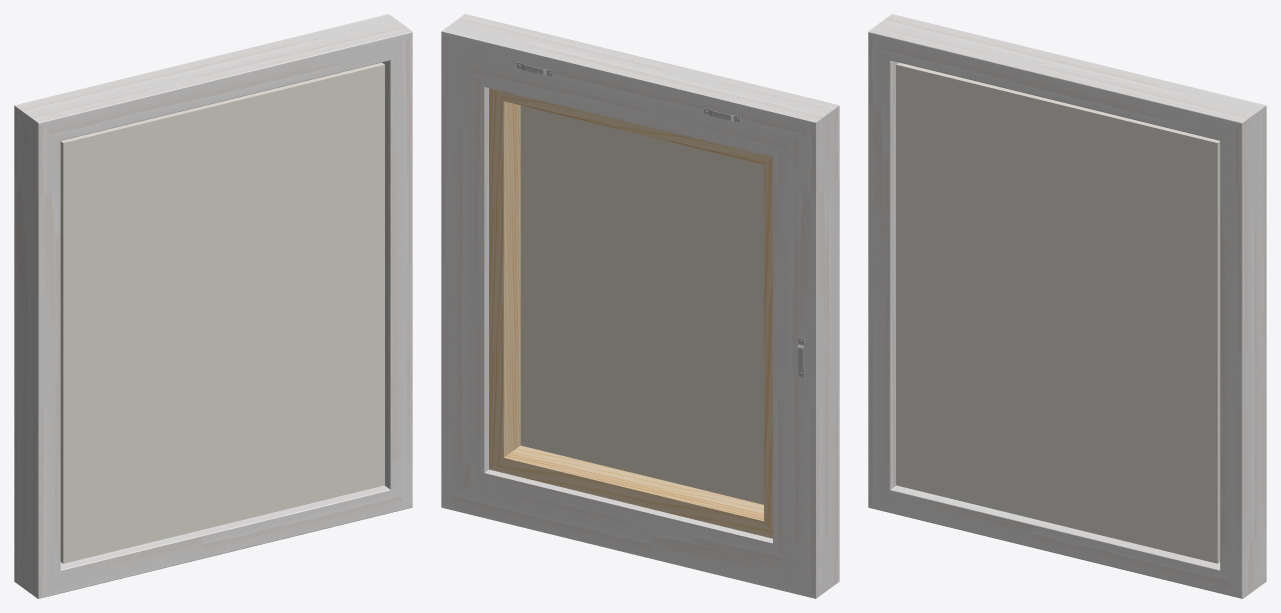
The model's file is delivery.glb.
The picture shows the model from 3 angles, left to right: view 1: azimuth 30°, elevation 25°; view 2: azimuth 150°, elevation 25°; view 3: azimuth 330°, elevation 25°; orthographic projection.
Parts seen in each view (by area): view 1: Canvas artwork front, Tray approved profile 0; view 2: Tray approved profile 0, Canvas linen reverse, Stretcher top, Sawtooth hanger 0; view 3: Canvas artwork front, Tray approved profile 0.
Boxes of the visible parts, x1,y1,x2,y2 form: Canvas artwork front: [60, 62, 384, 563]; Tray approved profile 0: [14, 14, 412, 598]; Tray approved profile 0: [441, 14, 839, 598]; Canvas linen reverse: [520, 105, 763, 504]; Stretcher top: [489, 88, 772, 538]; Sawtooth hanger 0: [516, 62, 804, 376]; Canvas artwork front: [896, 62, 1220, 563]; Tray approved profile 0: [868, 14, 1266, 598].
Bounding box in the file's own units: 0.466 × 0.566 × 0.0544.
7 materials, 3 textured.
